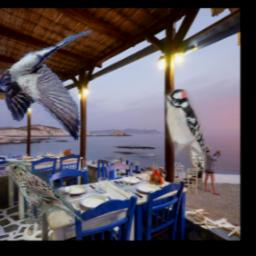Sparrow: (4, 161, 82, 224)
Swallow: (0, 30, 96, 142)
Woodpecker: (164, 90, 206, 171)
